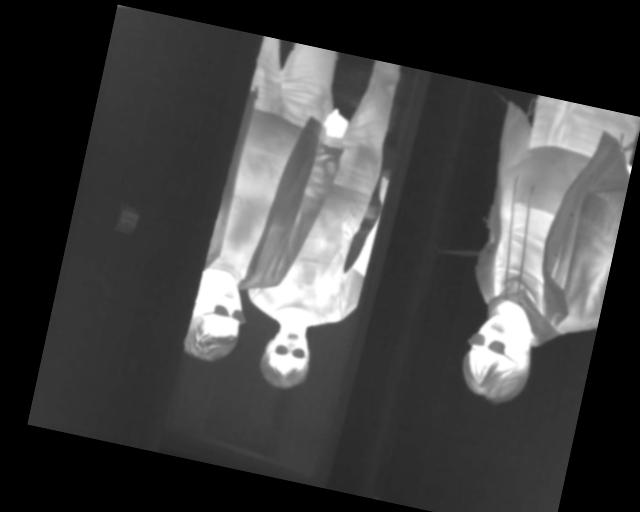face: (457, 309, 540, 410), (181, 271, 251, 367), (256, 318, 318, 394)
